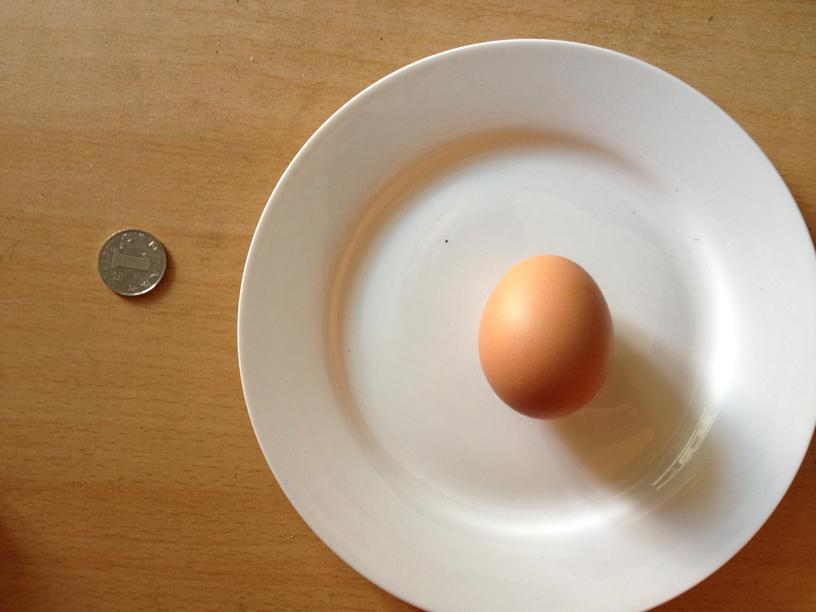coin: (97, 225, 168, 299)
egg: (481, 250, 614, 420)
